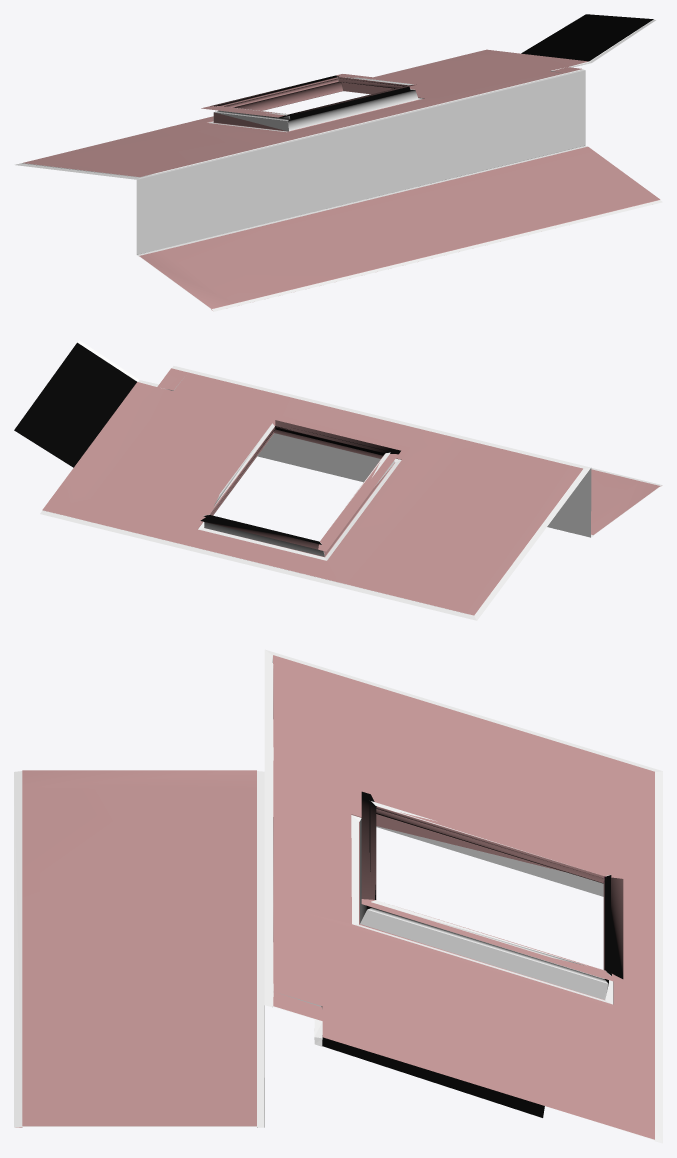
The model's file is SR_SectionCeiling_01.fbx.
3 views of the same model, one above another, from view 1: azimuth 30°, elevation 25°; view 2: azimuth 150°, elevation 25°; view 3: azimuth 270°, elevation 25° (orthographic). The views are drawn at different scales.
Parts seen in each view (by area): view 1: SR_SectionCeiling_01_LOD0, SR_SectionCeiling_01_Col; view 2: SR_SectionCeiling_01_LOD0, SR_SectionCeiling_01_Col; view 3: SR_SectionCeiling_01_LOD0, SR_SectionCeiling_01_Col.
Boxes of the visible parts, x1=… form: SR_SectionCeiling_01_LOD0: x1=22, y1=14, x2=660, y2=310; SR_SectionCeiling_01_Col: x1=15, y1=14, x2=662, y2=311; SR_SectionCeiling_01_LOD0: x1=15, y1=342, x2=660, y2=615; SR_SectionCeiling_01_Col: x1=14, y1=340, x2=662, y2=620; SR_SectionCeiling_01_LOD0: x1=15, y1=655, x2=662, y2=1143; SR_SectionCeiling_01_Col: x1=14, y1=649, x2=662, y2=1143.
Bounding box in the file's own units: 6377 × 1063 × 4126.
